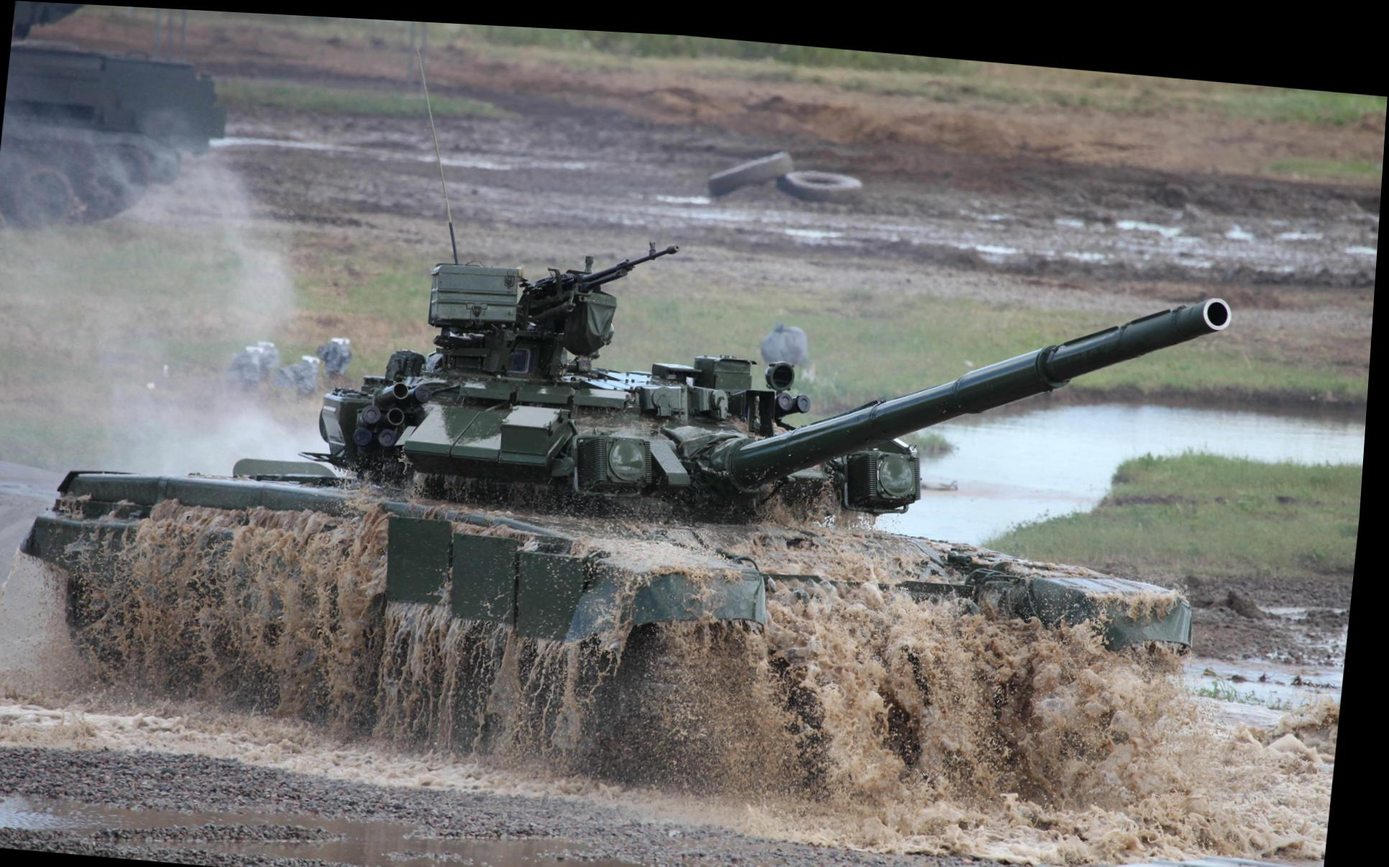tank: (0, 182, 1240, 833), (0, 0, 240, 238)
